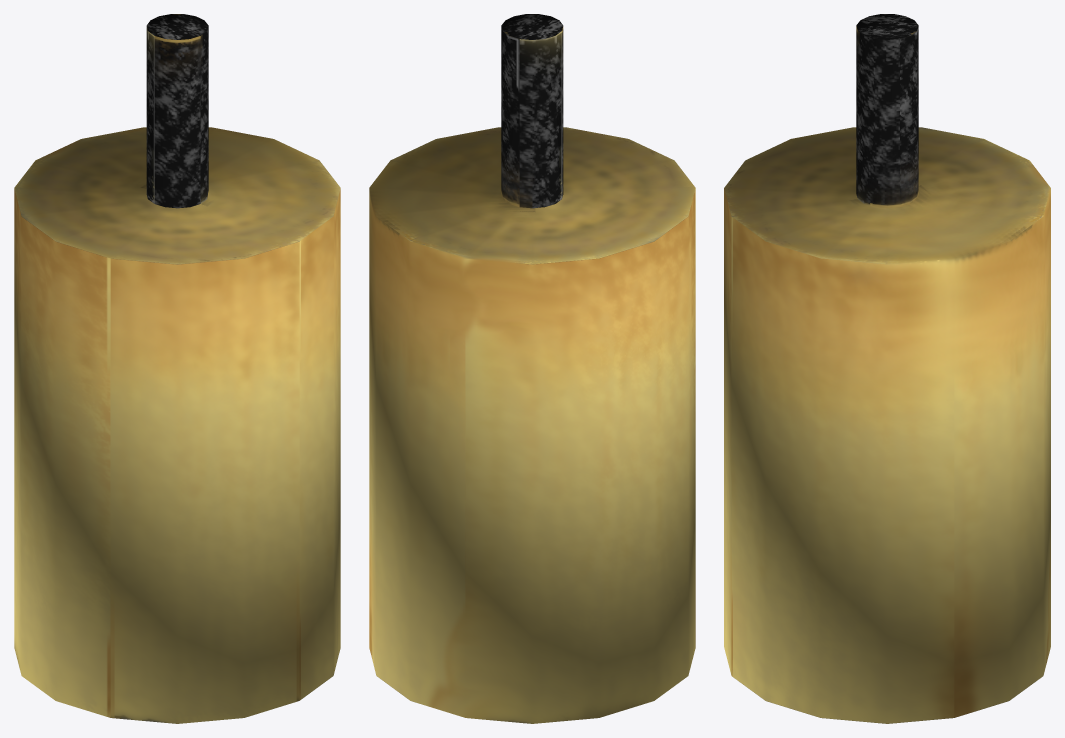
Rendered from Candle.obj.
3 renders of one model, left to right at view 1: azimuth 30°, elevation 25°; view 2: azimuth 150°, elevation 25°; view 3: azimuth 270°, elevation 25°, orthographic.
Visible parts, largest first — view 1: Cylinder001; view 2: Cylinder001; view 3: Cylinder001.
Part boxes in pixels (x1=…): Cylinder001: x1=14, y1=14, x2=340, y2=723; Cylinder001: x1=369, y1=14, x2=695, y2=723; Cylinder001: x1=724, y1=14, x2=1050, y2=723.
Bounding box in the file's own units: 0.874 × 1.87 × 0.88.
